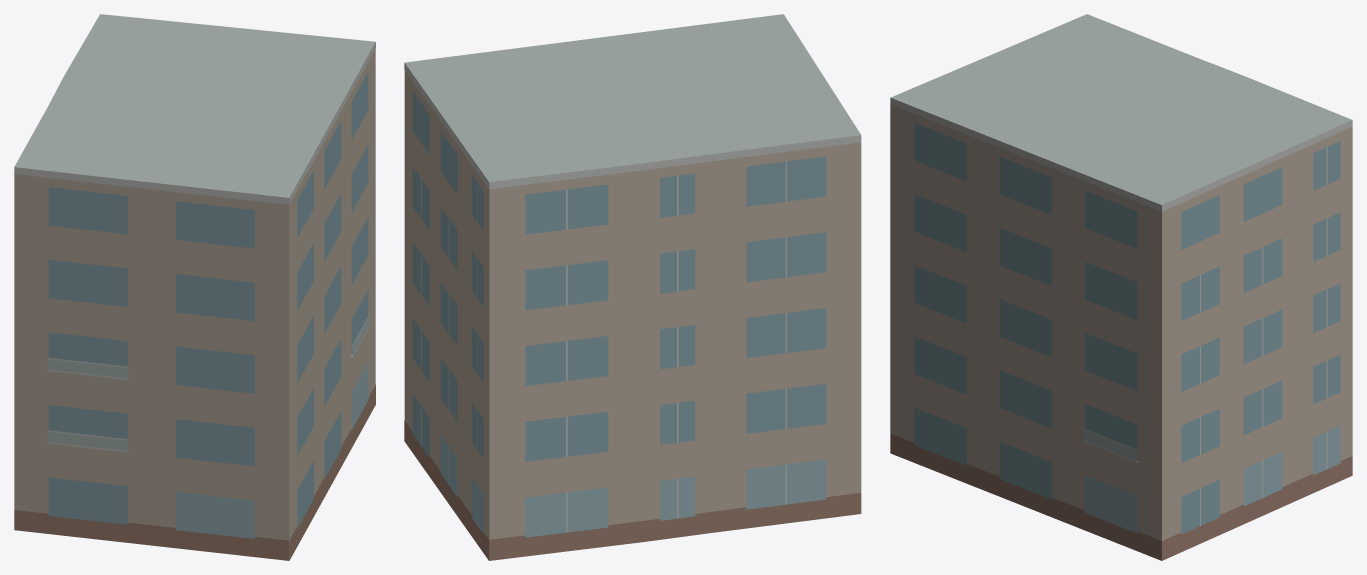
The model's file is survey-upis-32633622.glb.
The picture shows the model from 3 angles, left to right: view 1: azimuth 30°, elevation 25°; view 2: azimuth 150°, elevation 25°; view 3: azimuth 270°, elevation 25°; orthographic projection. The views are drawn at different scales.
Parts seen in each view (by area): view 1: survey-upis-32633622.tmp; view 2: survey-upis-32633622.tmp; view 3: survey-upis-32633622.tmp.
Boxes of the visible parts, box(x1,y1,x2,y2) form: survey-upis-32633622.tmp: box(14, 14, 375, 560); survey-upis-32633622.tmp: box(404, 14, 861, 560); survey-upis-32633622.tmp: box(890, 14, 1352, 560).
Bounding box in the file's own units: 14.99 × 13 × 15.31.
